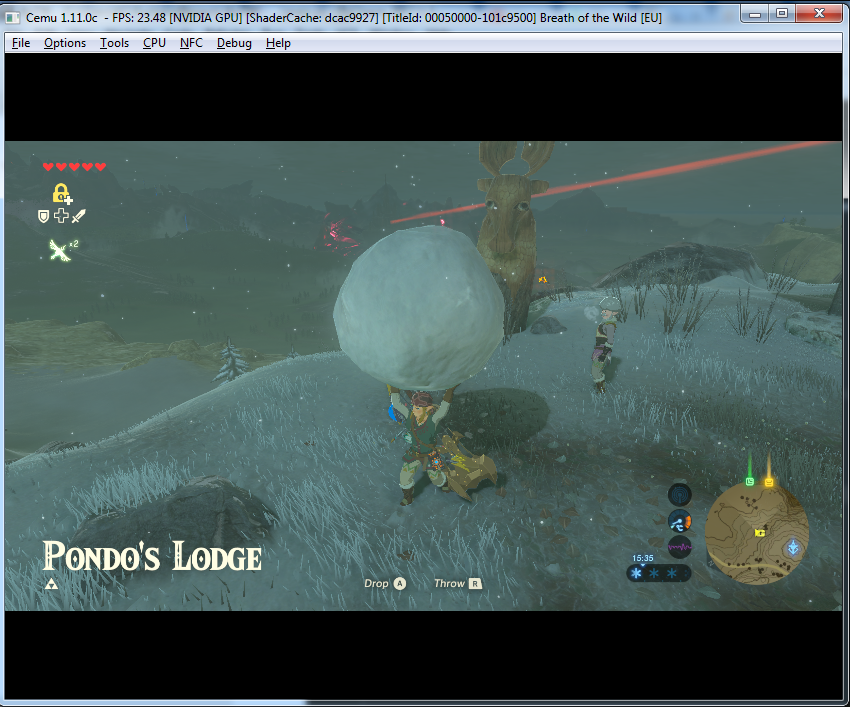dude: (584, 293, 624, 397)
link: (376, 374, 506, 507)
snowball: (333, 222, 514, 393)
totem: (467, 142, 559, 336)
